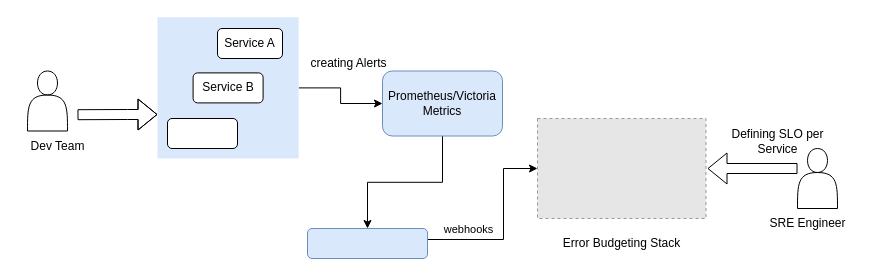
Some shapes in this 874 by 276 pixel diagram are drawn without their labels. Grey dashed boxes stand in for pictures. Here are the shapes that lost their labels. From the top down, the centre of each, then its label:
point 202,133: Service C
point 367,243: Alert Manager
